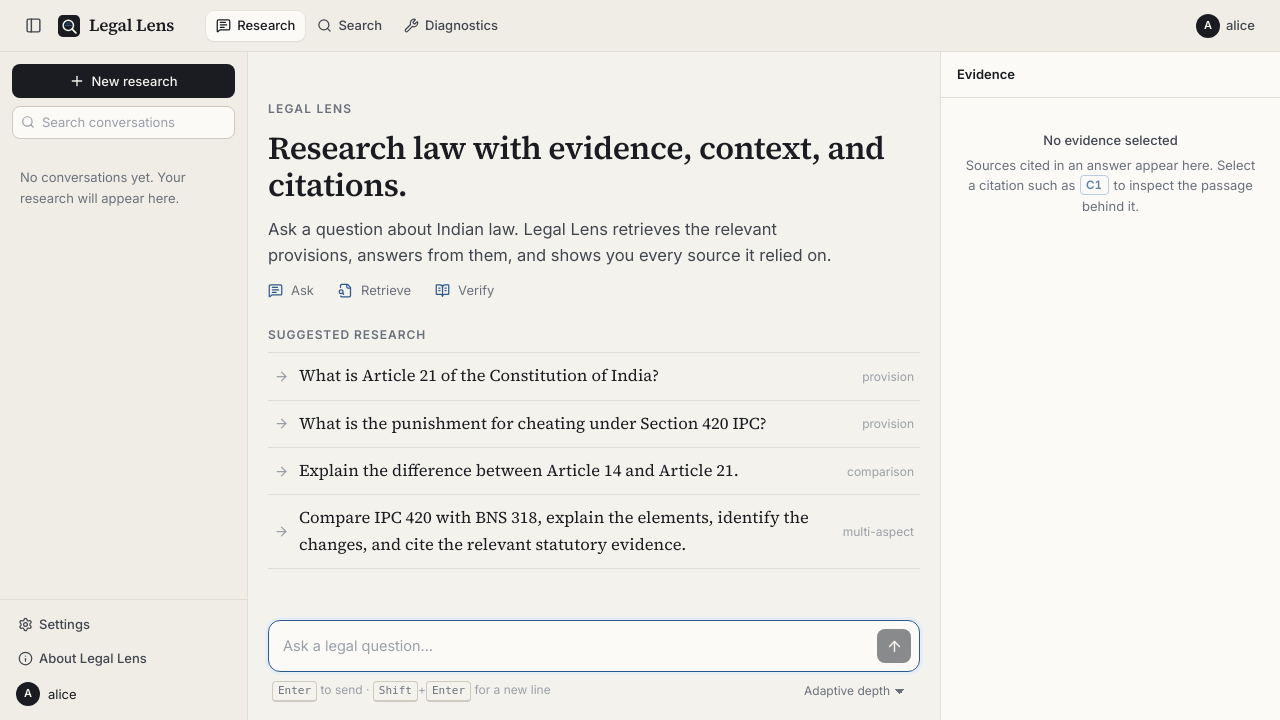
chat workspace › renders a backend error event as a retryable failure
The image size is (1280, 720).
Type "Explain Section 420 IPC" into the text box with test id "composer-input" at (577, 646), box [283,629,871,663]
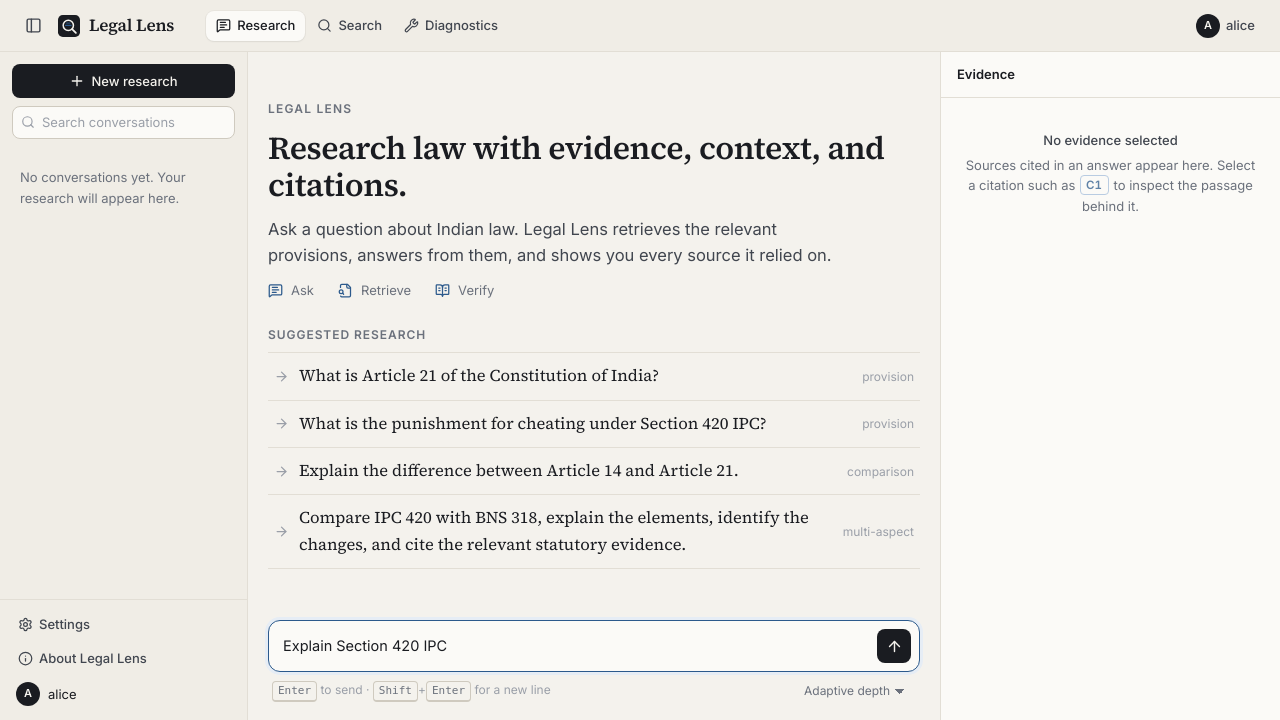
Press Enter
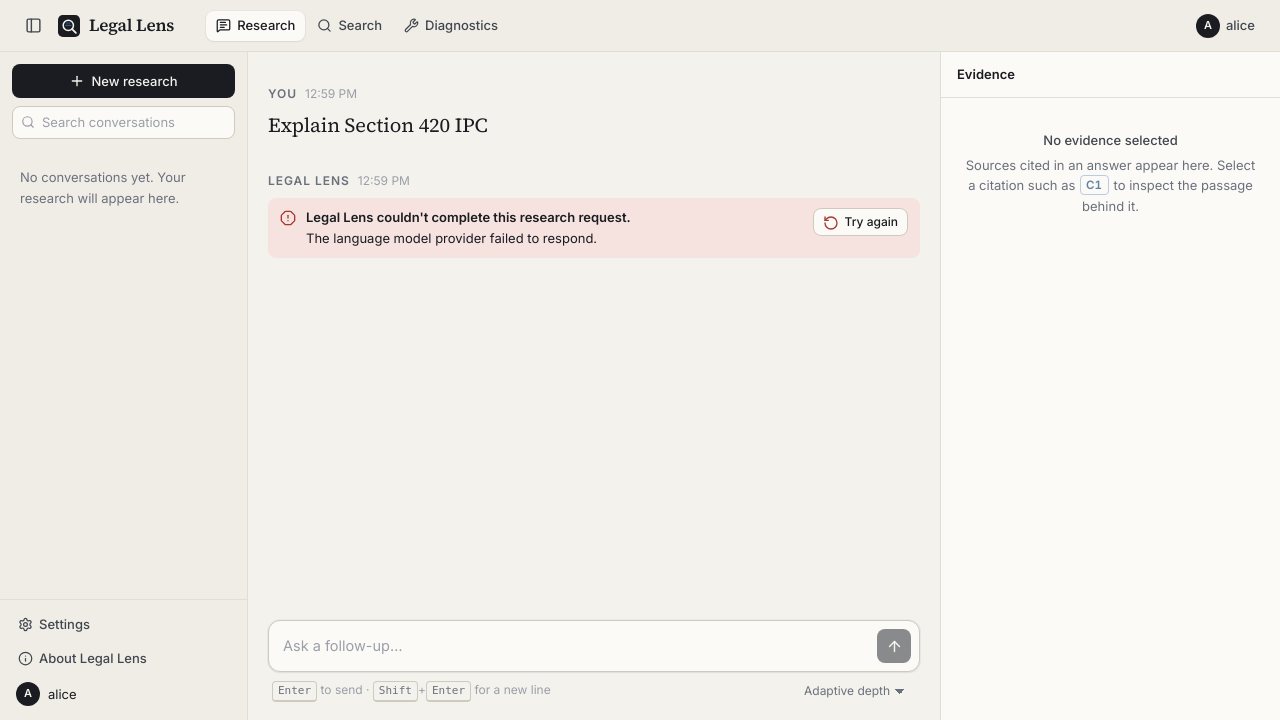
Now the message shows "language model provider failed", box [306,230,597,246]
Now the button "Try again" is shown, box [813,208,908,236]
